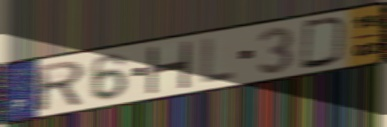3: (256, 24, 295, 77)
6: (89, 51, 131, 103)
D: (299, 16, 349, 72)
H: (144, 40, 193, 94)
L: (199, 35, 237, 86)
R: (35, 58, 87, 114)
